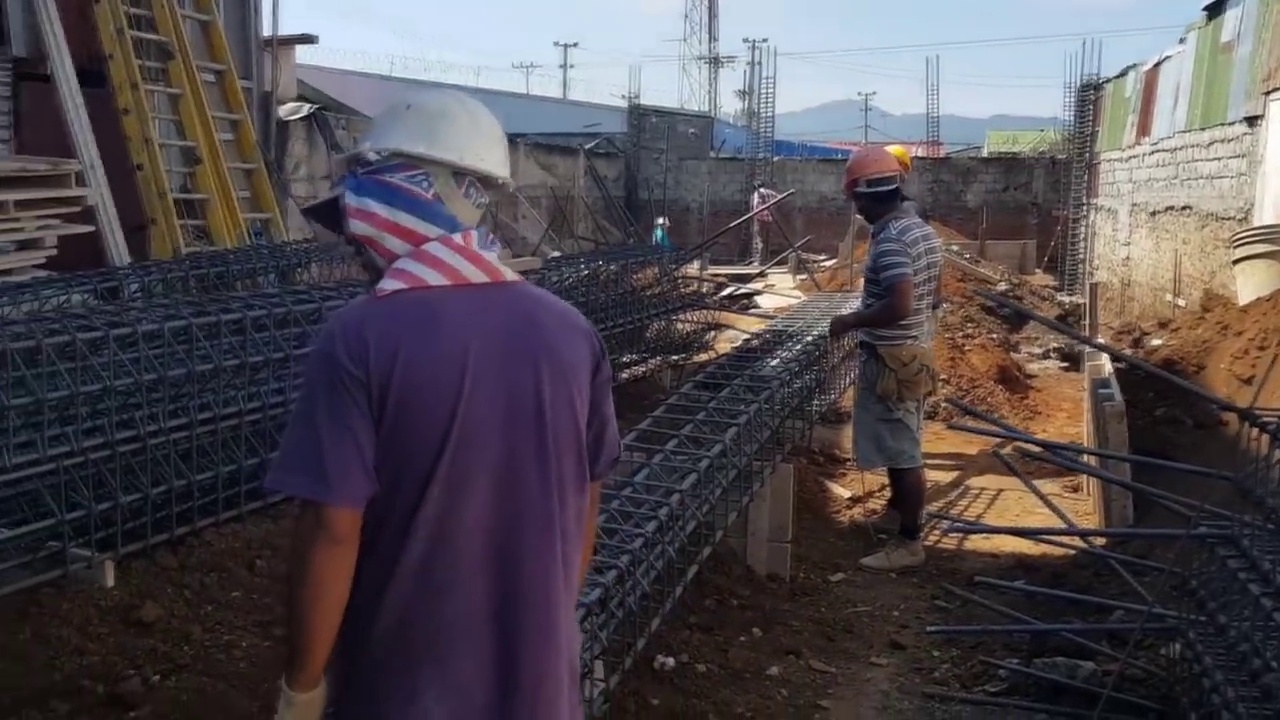helmet: (354, 82, 519, 194), (840, 147, 907, 193), (884, 145, 912, 172), (654, 216, 670, 225)
helmet-off: (753, 180, 764, 191)
helmet-on: (352, 75, 518, 263), (840, 146, 907, 227), (654, 215, 671, 229)
person: (264, 78, 621, 716), (827, 145, 945, 572), (752, 179, 782, 268), (652, 215, 670, 247)
